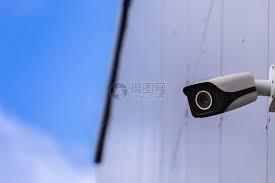tutu: (180, 70, 264, 119)
